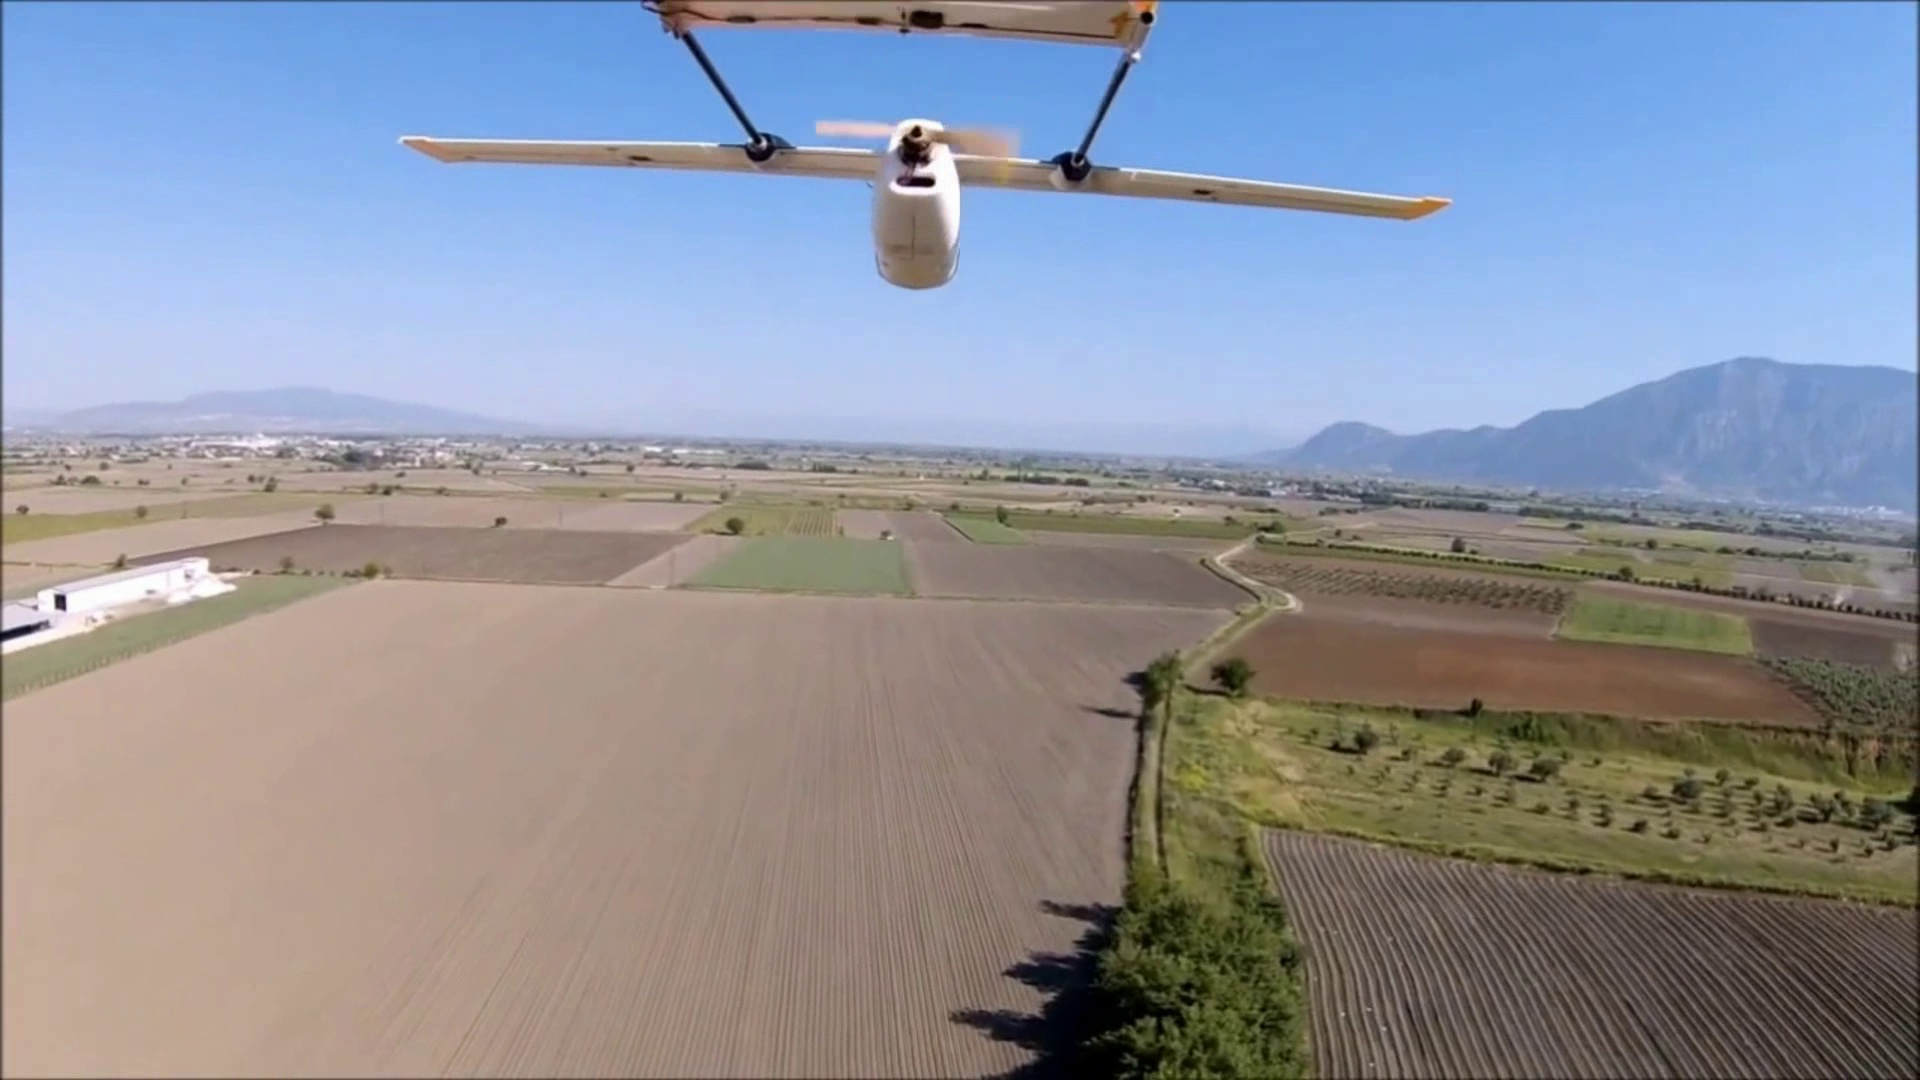airplane: (400, 7, 1447, 273)
